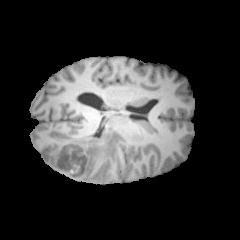glioma: (44, 127, 127, 179)
